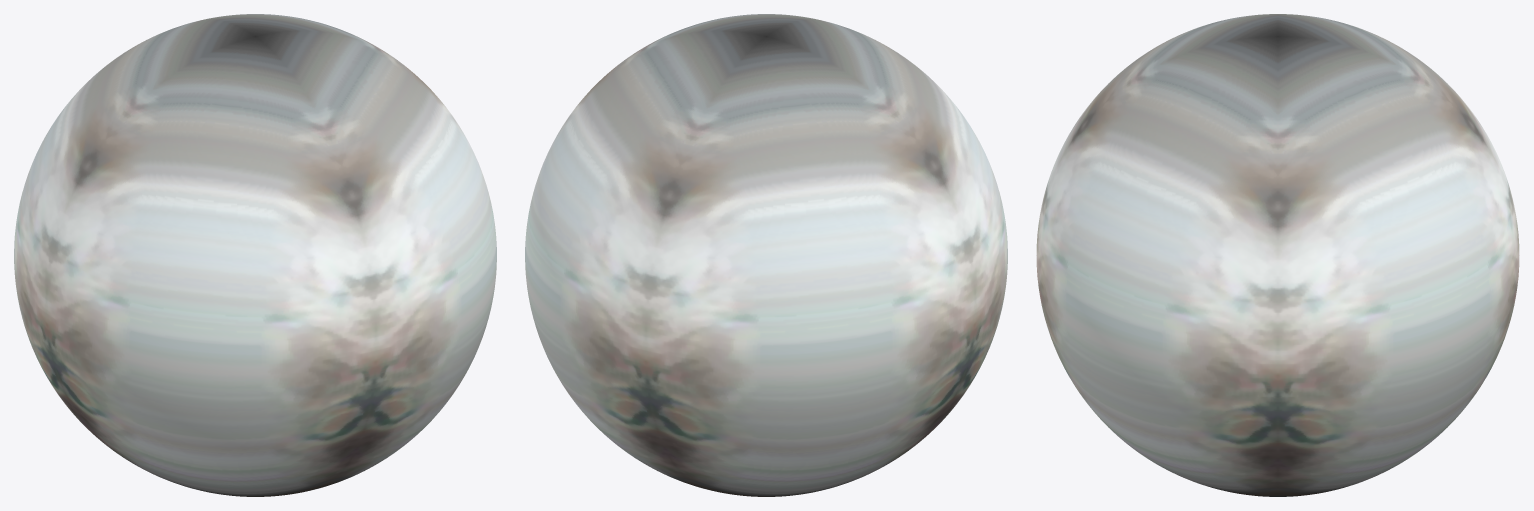
The model's file is Proxima_Cen_b.glb.
3 views of the same model, side by side, from view 1: azimuth 30°, elevation 25°; view 2: azimuth 150°, elevation 25°; view 3: azimuth 270°, elevation 25° (orthographic).
Parts seen in each view (by area): view 1: Proxima_Cen_b; view 2: Proxima_Cen_b; view 3: Proxima_Cen_b.
Boxes of the visible parts, left/top/right/bottom form: Proxima_Cen_b: left=14, top=14, right=496, bottom=496; Proxima_Cen_b: left=525, top=14, right=1007, bottom=496; Proxima_Cen_b: left=1036, top=14, right=1519, bottom=496.
Bounding box in the file's own units: 2 × 2 × 2.
Materials: 1 (1 with a texture image).
